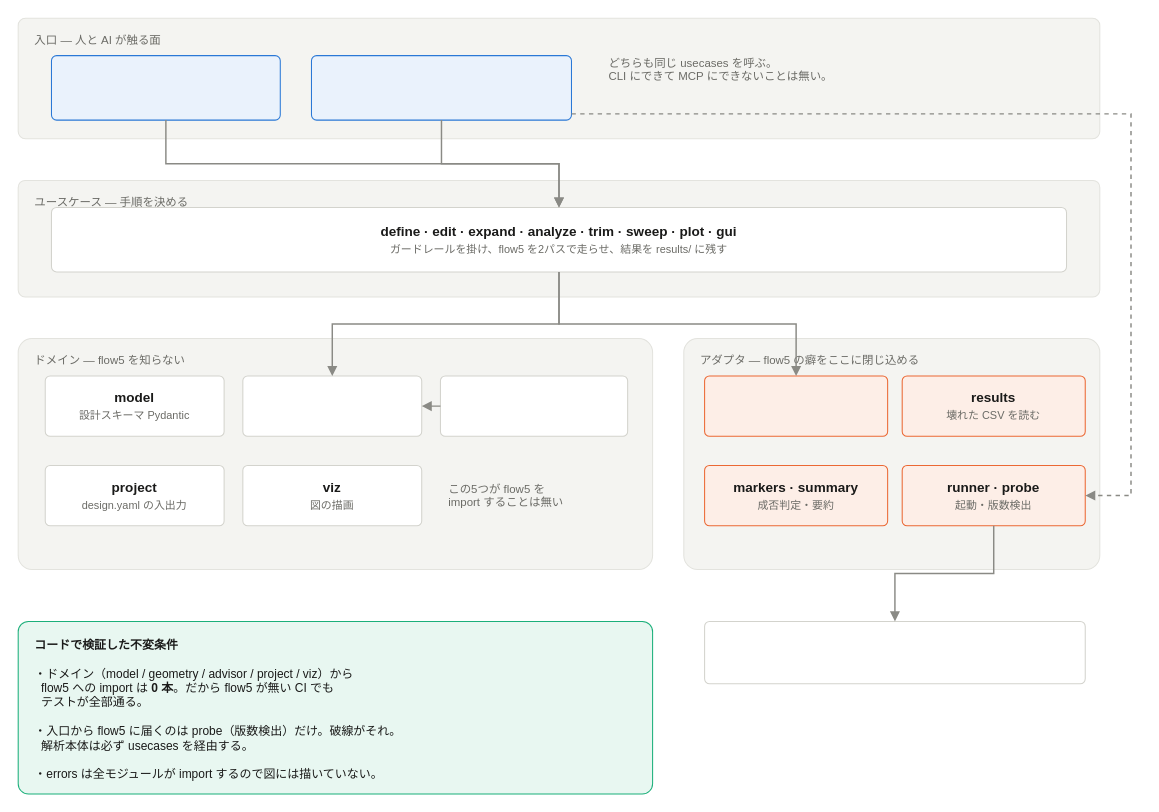
This 1159x812 diagram has some shape labels left out. Here are the shapes that lost their labels. From the top down, the centre of each, then its label:
At [165,87]: "cli 13 の verb。人が打つ".
At [440,87]: "mcp_server 13 tool / 6 resource。AI が呼ぶ".
At [332,405]: "geometry 面積・MAC・重心".
At [533,405]: "advisor 妥当性の帯・警告".
At [796,405]: "xmlgen flow5 方言だけを書く".
At [894,652]: "flow5 7.57（外部プロセス） XML を食わせて CSV を吐かせる。2パス必須".
